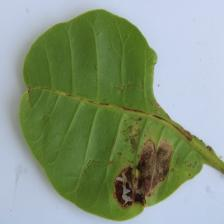leaf miner: (18, 8, 224, 222)
